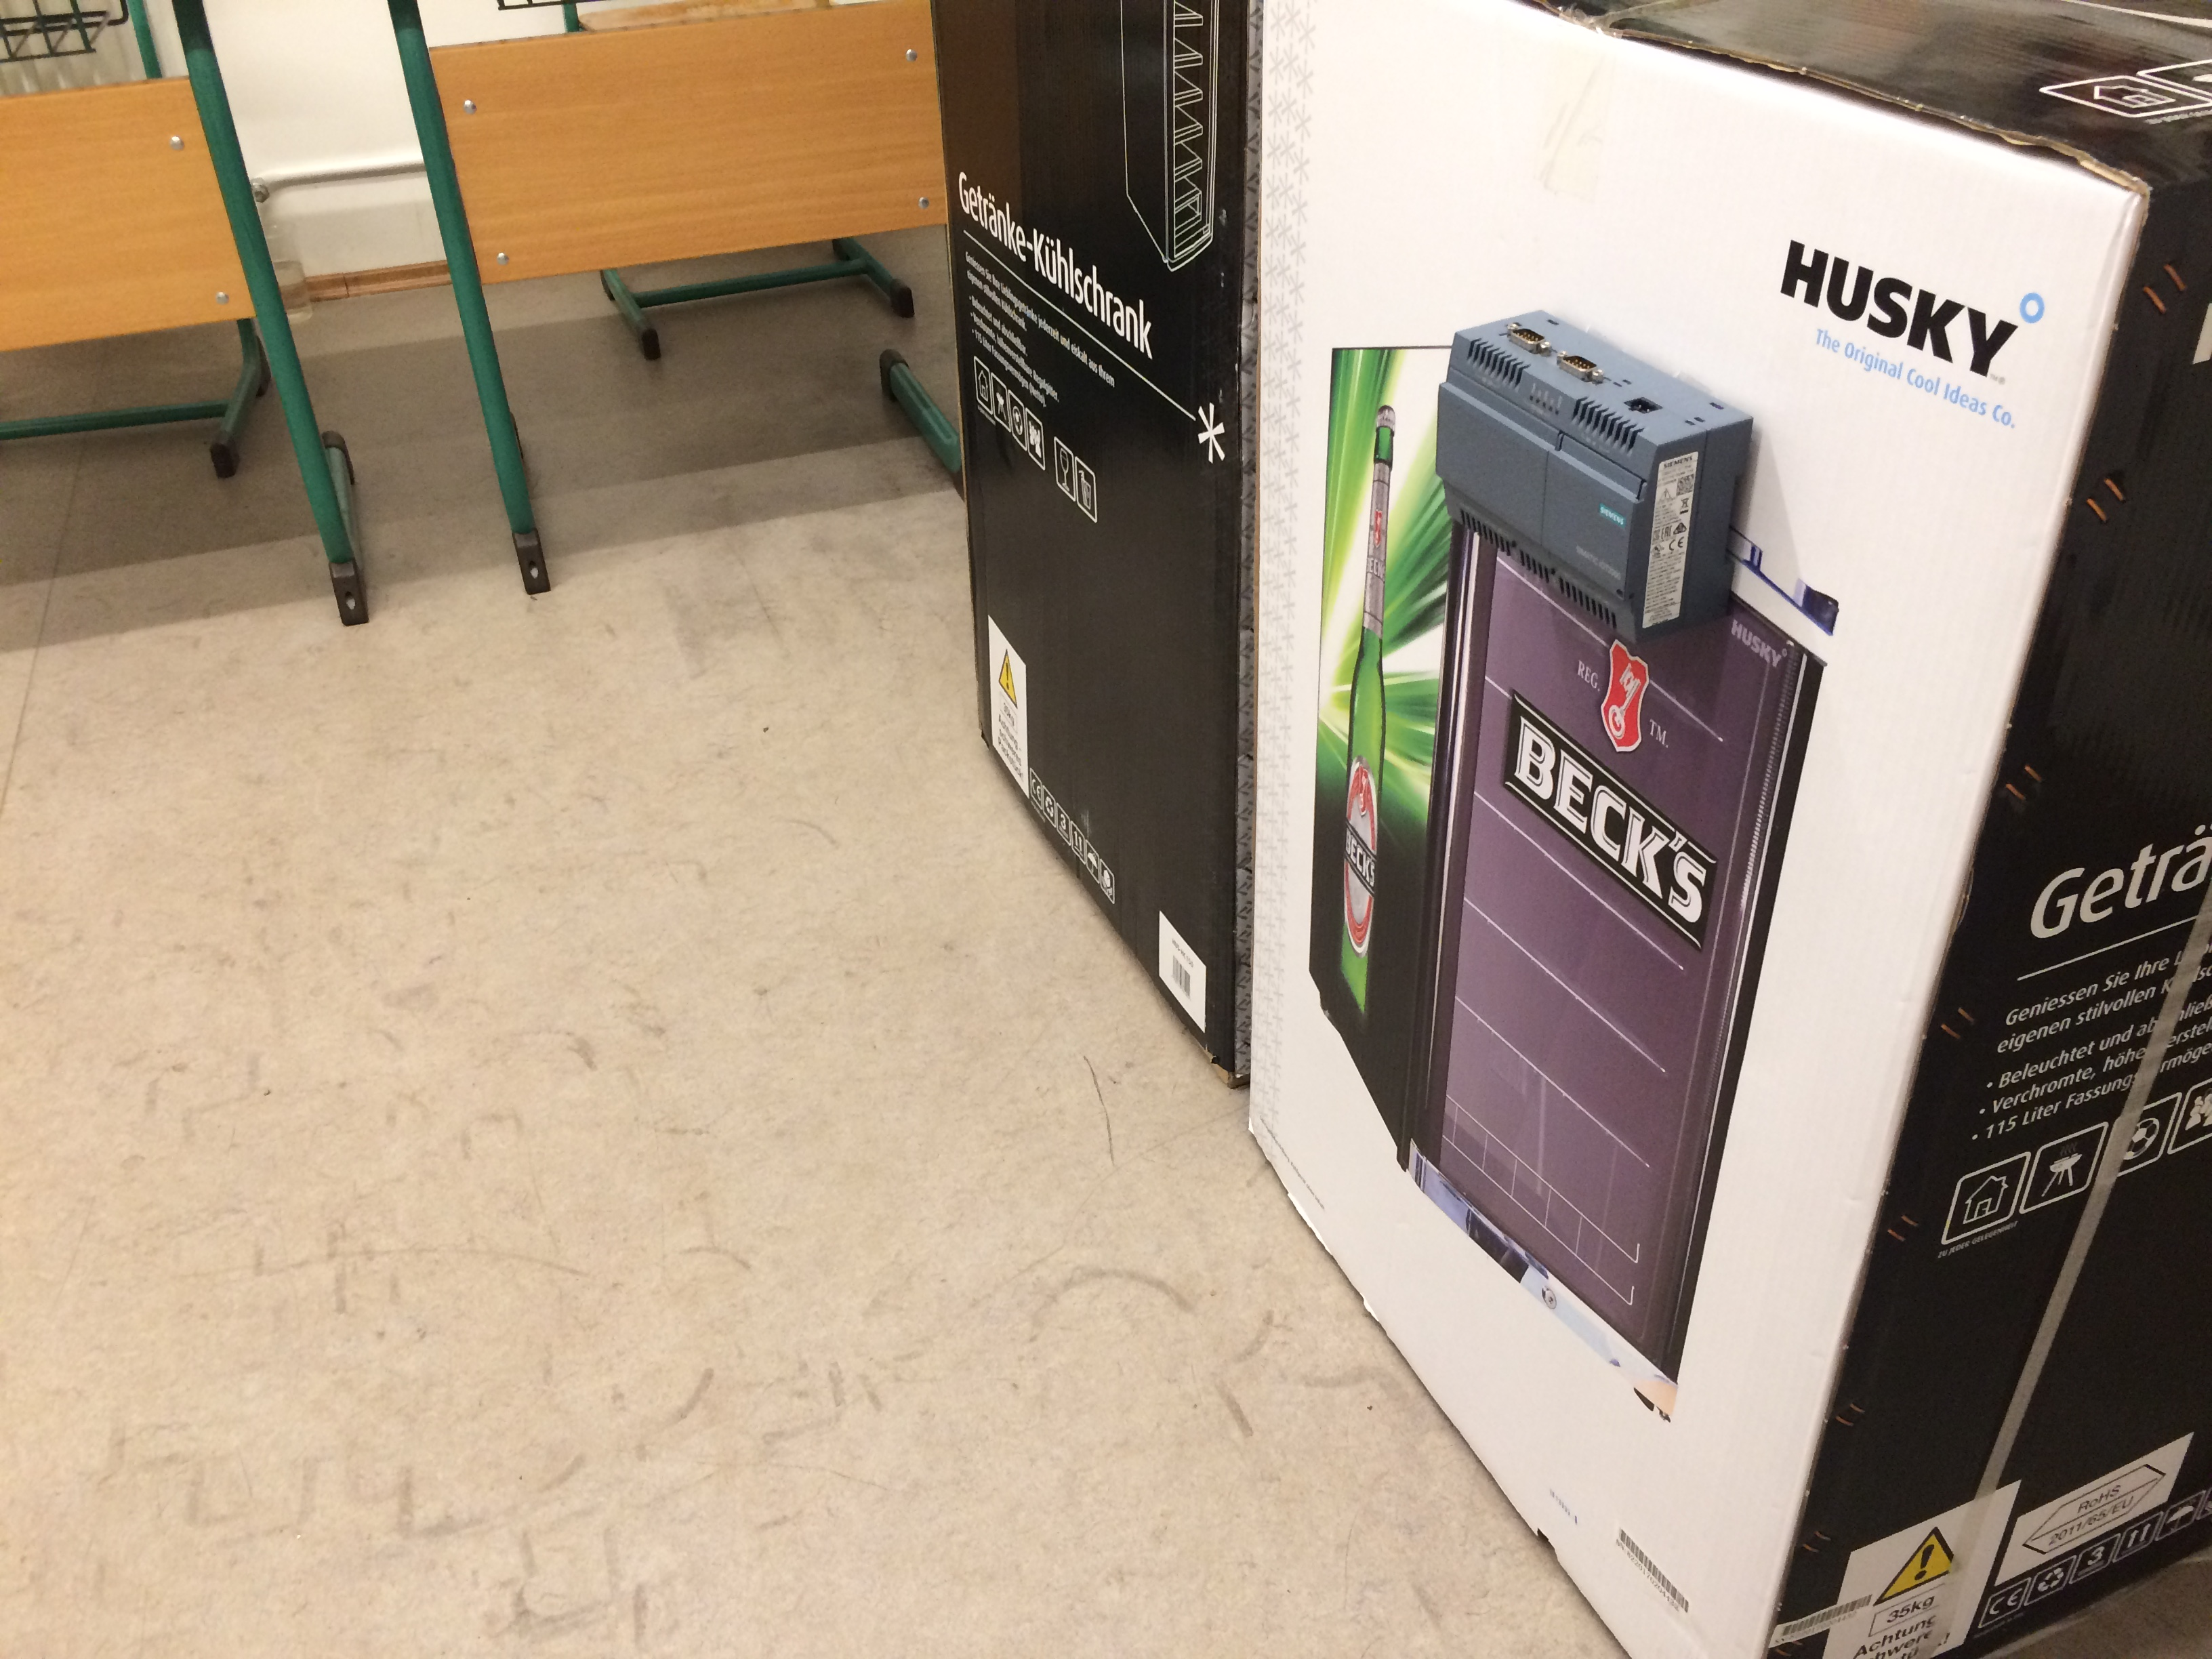iot2000: (1432, 307, 1757, 648)
